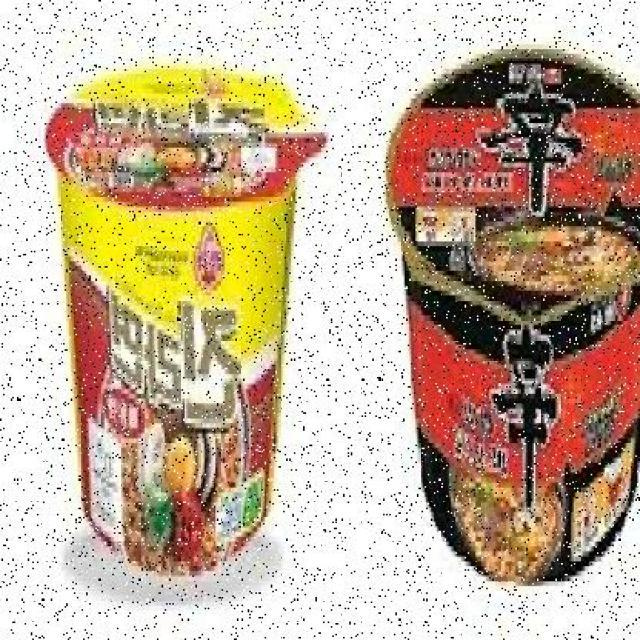Miscellaneous: (45, 58, 322, 564), (386, 49, 640, 586)
